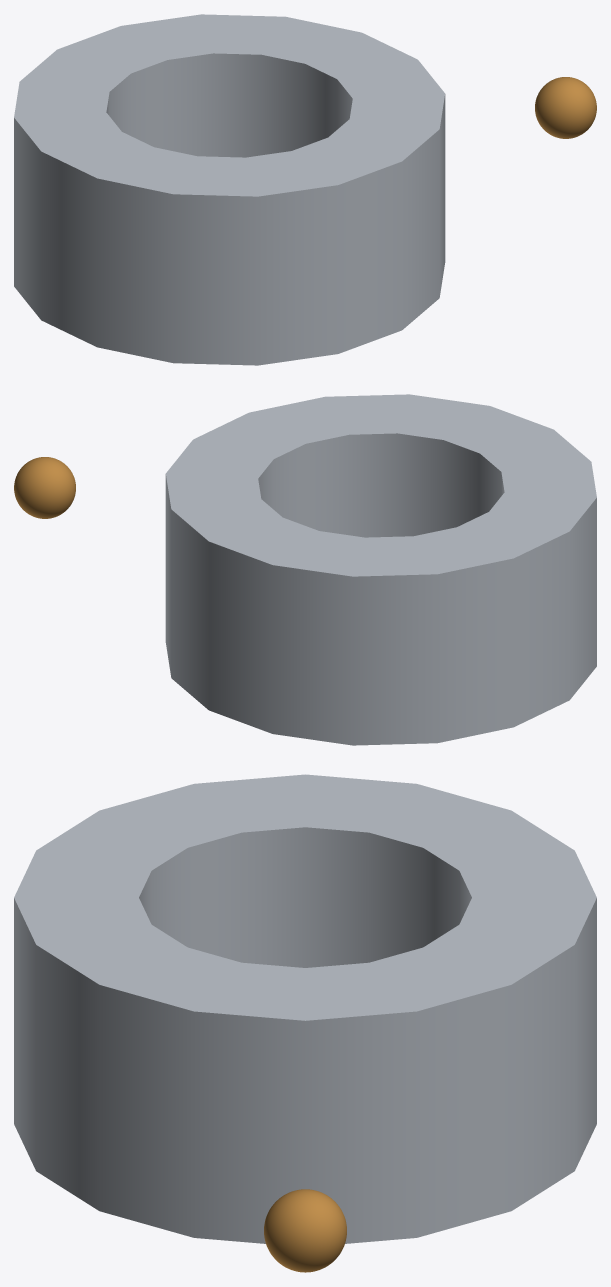
Rendered from small-after.glb.
The picture shows the model from 3 angles, top to bottom: view 1: azimuth 30°, elevation 25°; view 2: azimuth 150°, elevation 25°; view 3: azimuth 270°, elevation 25°; orthographic projection. The views are drawn at different scales.
Parts seen in each view (by area): view 1: bushing, preserved; view 2: bushing, preserved; view 3: bushing, preserved.
Part boxes in pixels (box(x1,y1,x2,y2)): bushing: box(14, 14, 445, 365); preserved: box(535, 77, 596, 138); bushing: box(165, 394, 596, 745); preserved: box(14, 457, 75, 518); bushing: box(14, 774, 596, 1243); preserved: box(264, 1189, 346, 1272).
Bounding box in the file's own units: 0.0205 × 0.006 × 0.014.
